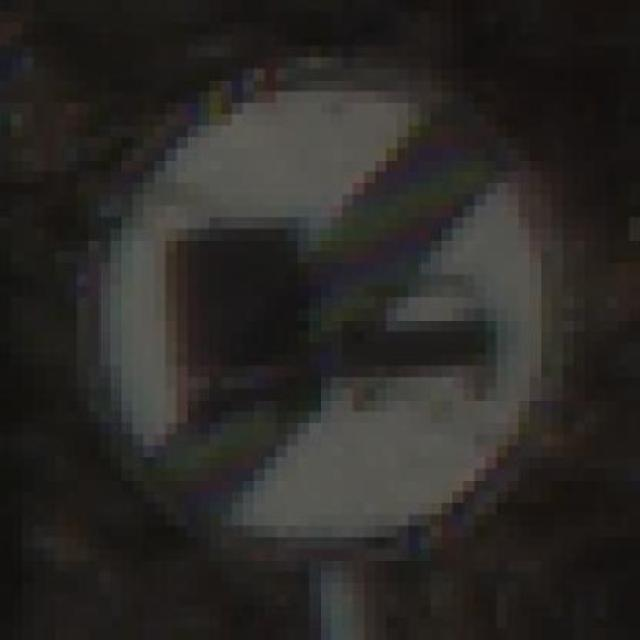Overtaking by trucks is prohibited: (33, 34, 596, 572)
